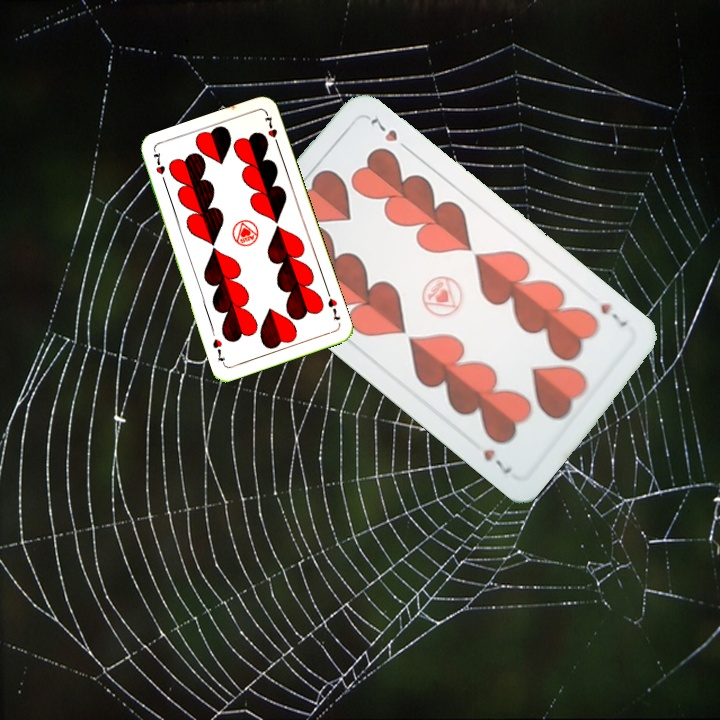H7: (596, 298, 630, 330), (149, 148, 169, 187), (324, 294, 343, 323)
